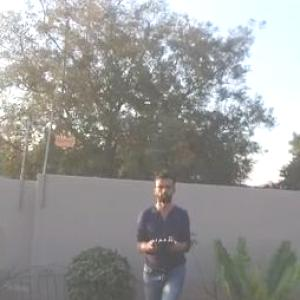follow: (128, 168, 199, 299)
